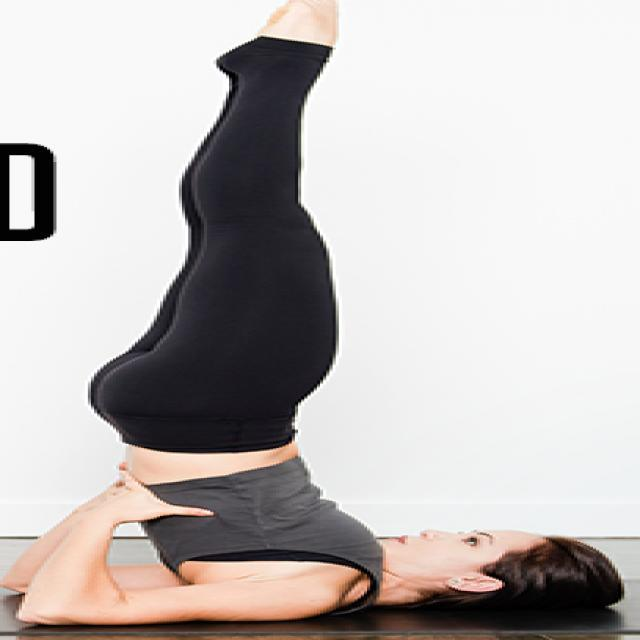yoga-pose shoulderstand: (19, 0, 600, 627)
